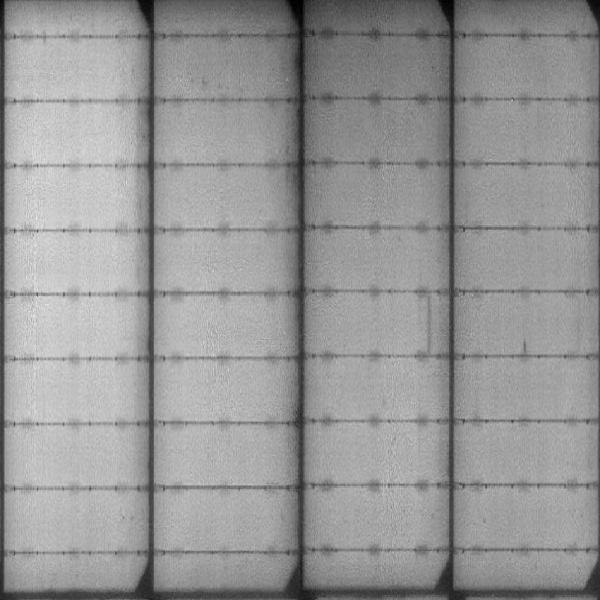scratch: (425, 299, 434, 355)
